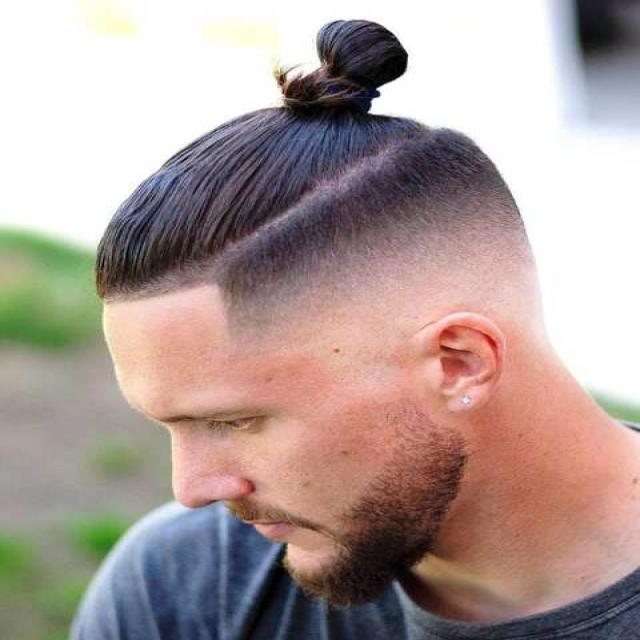Nonhelmet: (82, 17, 630, 612)
